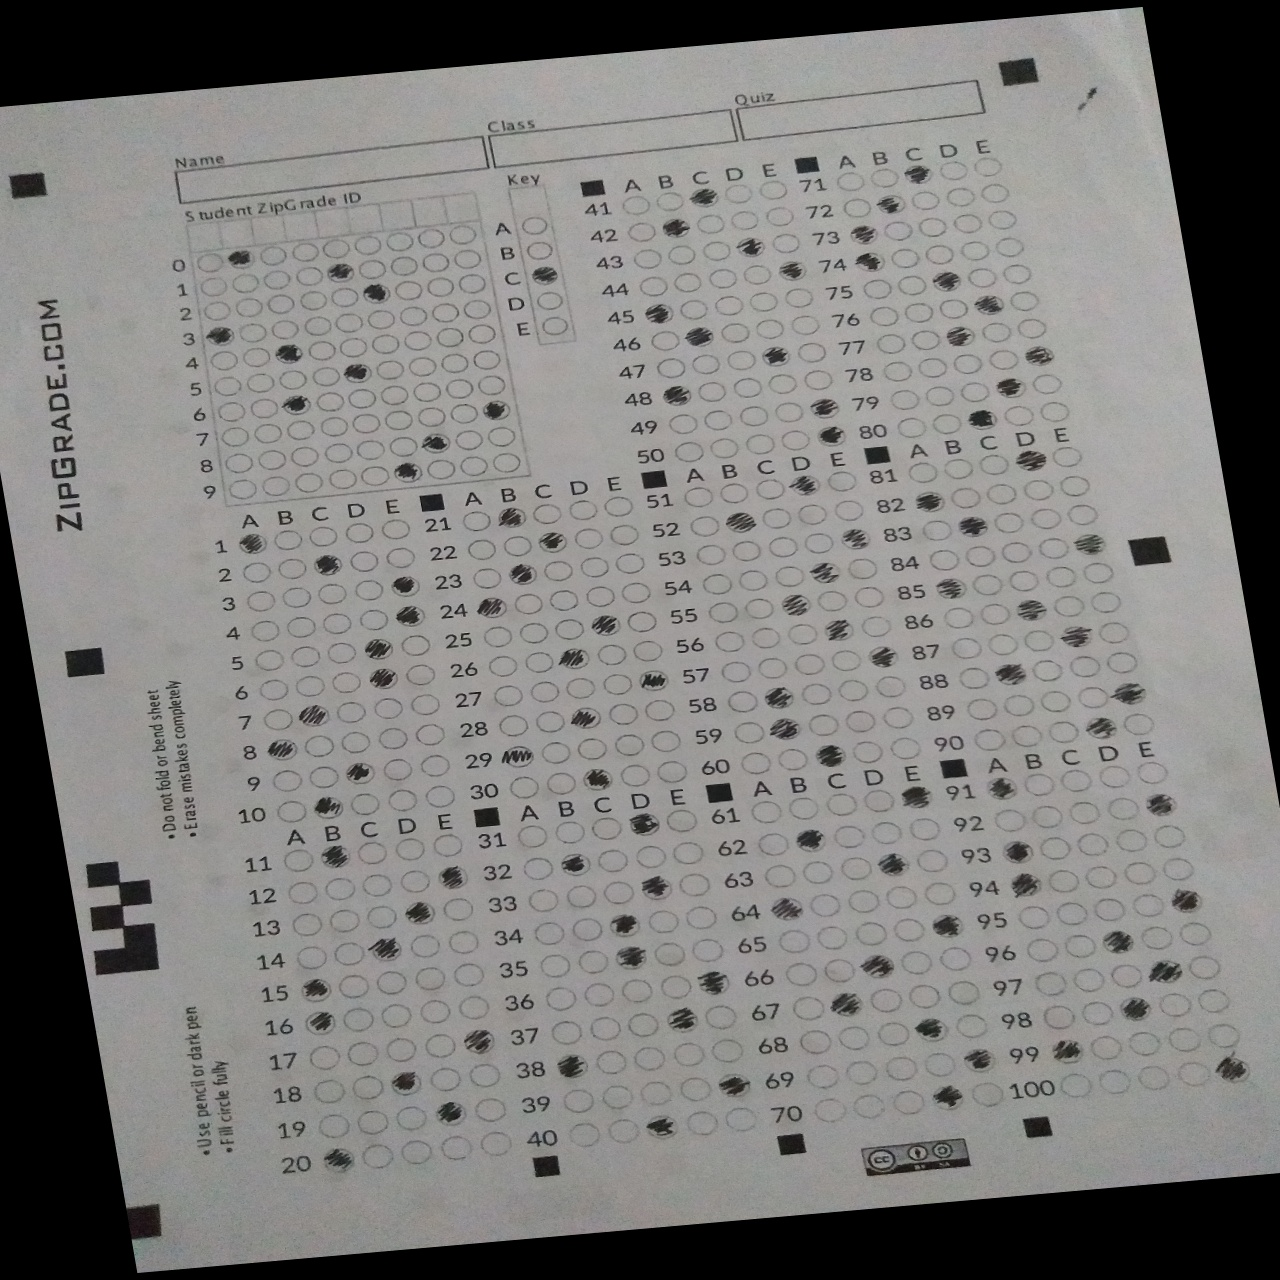not-c: (964, 726, 1008, 755), (327, 940, 372, 969), (309, 1111, 354, 1141), (284, 910, 328, 939), (279, 878, 324, 907), (700, 1002, 744, 1032), (679, 1109, 723, 1138), (673, 1075, 717, 1104), (667, 1040, 712, 1069), (632, 843, 676, 872), (672, 839, 716, 869), (768, 927, 812, 956), (747, 832, 791, 862), (747, 798, 791, 828), (896, 947, 940, 976), (903, 981, 947, 1010), (880, 1054, 925, 1083), (821, 790, 865, 819), (804, 891, 849, 920), (850, 921, 896, 949), (1128, 890, 1170, 920), (1175, 919, 1217, 949), (912, 517, 955, 546), (919, 546, 962, 576), (934, 602, 978, 632), (959, 695, 1002, 724), (302, 1041, 346, 1070), (290, 942, 333, 972), (511, 821, 554, 850), (706, 1036, 749, 1065), (722, 1104, 765, 1133), (654, 975, 697, 1005), (648, 941, 692, 971), (688, 937, 731, 966), (685, 903, 728, 932), (798, 1061, 842, 1090), (756, 863, 799, 892), (920, 1049, 964, 1078), (865, 986, 908, 1015), (784, 796, 828, 825), (798, 857, 842, 886), (1061, 652, 1105, 680), (278, 846, 322, 874), (645, 908, 689, 937), (676, 873, 721, 901), (836, 1057, 880, 1085), (788, 1027, 832, 1055), (870, 1019, 914, 1047), (835, 853, 879, 881), (806, 926, 851, 954), (817, 956, 862, 985), (308, 1076, 350, 1105), (526, 919, 568, 948), (778, 959, 821, 988), (940, 633, 983, 661), (1042, 717, 1085, 745), (1069, 683, 1112, 712), (316, 874, 360, 903), (321, 907, 365, 935), (346, 1073, 389, 1101), (423, 1065, 467, 1094), (388, 1105, 431, 1133), (379, 1036, 422, 1064), (539, 985, 583, 1013), (564, 1123, 607, 1151), (455, 994, 498, 1022), (429, 832, 472, 860), (599, 880, 642, 908), (595, 1082, 639, 1110), (558, 885, 601, 913), (523, 888, 566, 917), (518, 853, 561, 881), (661, 806, 704, 835), (785, 995, 829, 1023), (845, 888, 888, 917), (828, 822, 871, 850), (830, 1024, 873, 1053), (1135, 922, 1176, 952), (1105, 961, 1146, 990), (1094, 896, 1135, 925), (1081, 863, 1122, 892), (1193, 986, 1234, 1015), (1201, 1019, 1242, 1048), (1102, 797, 1143, 826), (1132, 760, 1173, 789), (1150, 823, 1191, 852), (1187, 952, 1228, 981), (948, 665, 990, 693), (594, 847, 636, 876), (352, 1109, 394, 1137), (334, 973, 376, 1001), (411, 964, 454, 992), (415, 998, 457, 1026), (436, 1133, 478, 1162), (376, 1002, 418, 1030), (373, 968, 415, 996), (359, 905, 401, 933), (355, 870, 397, 898), (476, 1130, 518, 1158), (468, 1095, 510, 1123), (448, 960, 490, 988), (576, 980, 618, 1008), (617, 976, 659, 1005), (601, 1117, 644, 1145), (585, 1015, 627, 1043), (570, 948, 612, 976), (550, 818, 592, 846), (898, 459, 941, 486), (343, 1039, 387, 1065), (402, 932, 445, 959), (394, 1139, 437, 1166), (350, 838, 394, 865), (544, 1019, 587, 1046), (619, 1012, 662, 1039), (591, 1049, 634, 1076), (1155, 988, 1194, 1017), (982, 629, 1023, 658), (588, 813, 629, 842), (1073, 832, 1114, 860), (1160, 1026, 1201, 1054), (1111, 826, 1152, 855), (1092, 764, 1133, 792), (1157, 856, 1198, 884), (1005, 722, 1047, 749), (944, 485, 986, 512), (708, 628, 750, 655), (383, 787, 425, 813), (342, 520, 384, 547), (299, 731, 341, 758), (241, 588, 284, 615), (533, 738, 576, 765), (516, 647, 558, 674), (502, 774, 544, 801), (608, 522, 651, 549), (577, 556, 619, 583), (356, 1144, 399, 1171), (336, 1005, 379, 1032), (388, 835, 430, 862), (395, 869, 437, 896), (416, 1033, 458, 1060), (532, 953, 574, 980), (557, 1088, 599, 1115), (463, 1062, 505, 1089), (436, 896, 478, 922), (565, 915, 607, 942), (808, 1096, 847, 1124), (1175, 1060, 1214, 1088), (1121, 859, 1160, 887), (990, 508, 1032, 535), (804, 712, 845, 738), (731, 568, 772, 595), (697, 568, 738, 595), (688, 542, 729, 568), (849, 738, 890, 765), (349, 576, 390, 602), (304, 522, 345, 549), (268, 798, 309, 825), (597, 493, 638, 520), (656, 760, 697, 787), (615, 551, 656, 578), (546, 587, 587, 614), (629, 1046, 670, 1073), (636, 1080, 678, 1107), (1124, 1032, 1165, 1058), (1006, 567, 1048, 593), (958, 543, 1000, 568), (981, 482, 1023, 508), (812, 588, 855, 614), (727, 538, 769, 564), (714, 659, 756, 685), (368, 695, 410, 721), (338, 730, 380, 756), (324, 638, 366, 663), (281, 615, 324, 641), (266, 769, 308, 795), (560, 673, 602, 699), (511, 619, 553, 645), (497, 533, 539, 559), (645, 727, 687, 753), (608, 730, 651, 756), (870, 819, 908, 847), (903, 817, 941, 845), (850, 1092, 888, 1121), (945, 979, 983, 1007), (1020, 771, 1058, 799), (1041, 1003, 1080, 1032), (845, 556, 885, 583), (716, 481, 756, 508), (835, 678, 874, 704), (409, 692, 449, 719), (332, 697, 372, 724), (253, 678, 293, 704), (244, 647, 284, 674), (375, 726, 415, 753), (527, 678, 567, 704), (454, 508, 493, 535), (549, 617, 588, 644), (849, 584, 890, 610), (829, 501, 870, 526), (821, 470, 862, 496), (1042, 563, 1083, 588), (1049, 591, 1090, 617), (1027, 656, 1068, 682), (998, 693, 1039, 719), (974, 601, 1015, 627), (996, 538, 1037, 564), (798, 682, 839, 708), (791, 651, 832, 676), (758, 506, 799, 532), (738, 597, 779, 622), (745, 625, 787, 651), (772, 745, 813, 771), (731, 750, 772, 776), (719, 692, 760, 717), (699, 598, 740, 624), (683, 512, 724, 538), (798, 531, 839, 557), (858, 614, 899, 640), (828, 647, 869, 673), (871, 673, 912, 699), (840, 708, 881, 734), (416, 754, 457, 779), (358, 606, 399, 632), (403, 660, 444, 686), (383, 546, 424, 572), (343, 547, 384, 573), (382, 516, 423, 542), (318, 611, 359, 636), (315, 580, 356, 606), (271, 557, 312, 583), (290, 674, 331, 700), (304, 765, 345, 791), (253, 707, 294, 733), (529, 707, 570, 733), (509, 591, 550, 617), (565, 498, 606, 524), (530, 502, 571, 527), (492, 710, 533, 736), (474, 625, 515, 651), (461, 565, 502, 591), (624, 610, 665, 635), (592, 644, 633, 669), (599, 672, 640, 697), (645, 695, 686, 721), (629, 638, 670, 663), (570, 524, 611, 550), (604, 700, 645, 726), (538, 559, 579, 585), (888, 1087, 926, 1115), (1096, 1068, 1133, 1096), (1065, 799, 1103, 828), (883, 884, 921, 911), (1133, 1064, 1172, 1091), (1055, 1073, 1094, 1099), (1032, 969, 1070, 996), (992, 806, 1030, 833), (1057, 768, 1096, 795), (1069, 967, 1108, 994), (1061, 933, 1099, 960), (1021, 628, 1061, 654), (969, 570, 1009, 595), (781, 622, 821, 648), (770, 563, 810, 588), (765, 533, 805, 559), (753, 476, 792, 502), (726, 719, 765, 744), (676, 483, 716, 509), (795, 502, 835, 527), (880, 703, 920, 729), (888, 735, 928, 761), (380, 756, 420, 782), (422, 783, 462, 809), (413, 721, 452, 747), (394, 632, 434, 658), (346, 790, 386, 816), (328, 670, 368, 696), (280, 584, 320, 610), (244, 619, 284, 645), (234, 560, 274, 586), (486, 683, 526, 709), (479, 654, 519, 680), (463, 537, 503, 563), (619, 579, 659, 605), (617, 763, 656, 789), (890, 917, 930, 942), (445, 928, 482, 956), (935, 944, 973, 971), (920, 880, 958, 907), (913, 847, 951, 874), (954, 1013, 992, 1040), (968, 1080, 1006, 1107), (1024, 937, 1062, 964), (1014, 905, 1051, 932), (1078, 999, 1116, 1026), (1089, 1034, 1126, 1061), (1055, 900, 1092, 927), (1044, 869, 1082, 896), (1035, 835, 1073, 862), (1036, 689, 1077, 714), (751, 655, 792, 680), (286, 646, 327, 670), (573, 736, 614, 761), (266, 530, 306, 554), (542, 771, 581, 796), (583, 586, 622, 611), (862, 789, 899, 815), (1028, 804, 1065, 830), (353, 257, 389, 282), (964, 265, 1001, 290), (318, 236, 354, 260), (454, 271, 490, 295), (294, 288, 331, 313), (196, 299, 232, 324), (258, 475, 294, 499), (396, 305, 433, 329), (306, 365, 342, 389), (422, 457, 458, 482), (381, 408, 417, 433), (316, 413, 353, 437), (939, 456, 975, 481), (745, 291, 782, 315), (735, 404, 771, 429), (694, 379, 730, 403), (701, 408, 737, 433), (670, 441, 707, 465), (535, 315, 571, 340), (927, 411, 964, 436), (893, 415, 930, 440), (879, 360, 915, 384), (726, 209, 762, 233), (915, 216, 952, 240), (1007, 290, 1043, 314), (993, 234, 1029, 259), (978, 181, 1014, 205), (975, 452, 1012, 477), (1063, 503, 1099, 527), (414, 406, 451, 429), (1027, 508, 1064, 531), (382, 229, 417, 253), (192, 250, 227, 274), (445, 223, 481, 247), (227, 272, 263, 297), (451, 428, 486, 452), (225, 476, 260, 501), (213, 401, 248, 425), (229, 272, 264, 297), (268, 318, 304, 342), (254, 448, 290, 472), (343, 386, 379, 410), (462, 297, 497, 321), (451, 248, 486, 273), (771, 400, 806, 424), (750, 316, 785, 341), (700, 238, 735, 263), (661, 244, 696, 268), (689, 353, 724, 377), (708, 435, 743, 459), (888, 247, 924, 272), (873, 332, 908, 356), (867, 302, 903, 327), (860, 278, 896, 302), (838, 196, 873, 220), (835, 169, 870, 193), (922, 243, 958, 267), (958, 238, 993, 263), (955, 379, 990, 403), (986, 347, 1021, 372), (1037, 399, 1073, 423), (1032, 372, 1067, 396), (1085, 590, 1121, 614), (1037, 537, 1073, 561), (740, 263, 775, 287), (413, 226, 449, 250), (287, 240, 324, 264), (193, 275, 230, 299), (219, 425, 256, 449), (258, 268, 294, 292), (209, 374, 245, 397), (299, 314, 335, 338), (287, 445, 324, 469), (292, 470, 328, 493), (241, 372, 278, 395), (369, 334, 406, 358), (388, 256, 424, 279), (305, 339, 341, 362), (332, 312, 368, 335), (474, 373, 510, 396), (409, 382, 445, 406), (384, 436, 421, 459), (356, 463, 393, 486), (324, 467, 360, 490), (319, 441, 355, 464), (416, 252, 452, 275), (400, 331, 436, 354), (769, 232, 805, 256), (781, 286, 817, 309), (789, 314, 825, 338), (799, 368, 836, 392), (778, 429, 815, 452), (740, 430, 776, 454), (723, 349, 760, 373), (712, 294, 748, 318), (693, 213, 729, 237), (653, 190, 689, 213), (663, 411, 700, 435), (653, 356, 689, 380), (646, 328, 682, 352), (619, 193, 655, 217), (516, 215, 552, 238), (520, 239, 557, 263), (891, 275, 927, 299), (723, 182, 760, 205), (951, 212, 987, 236), (934, 297, 971, 320), (981, 320, 1017, 343), (999, 403, 1035, 427), (983, 206, 1020, 230), (937, 158, 973, 182), (1084, 559, 1121, 583), (1055, 475, 1091, 498), (256, 244, 290, 268), (670, 271, 704, 295), (922, 384, 956, 409), (328, 285, 362, 309), (905, 329, 942, 352), (222, 452, 257, 476), (239, 345, 274, 368), (290, 264, 325, 287), (263, 293, 298, 316), (206, 348, 241, 372), (274, 368, 309, 392), (284, 418, 319, 442), (246, 397, 281, 421), (336, 336, 372, 360), (443, 377, 478, 401), (467, 348, 502, 372), (440, 350, 475, 374), (404, 355, 440, 379), (373, 359, 408, 382), (434, 326, 469, 349), (464, 322, 499, 346), (428, 301, 463, 325), (486, 424, 522, 448), (455, 454, 490, 477), (794, 341, 829, 365), (764, 372, 799, 395), (730, 376, 765, 400), (717, 321, 753, 345), (704, 268, 740, 292), (678, 299, 713, 322), (635, 274, 670, 298), (628, 247, 663, 271), (900, 301, 935, 325), (881, 219, 917, 243), (886, 388, 921, 411), (945, 186, 980, 210), (949, 350, 985, 374), (1015, 316, 1050, 340), (1000, 261, 1035, 285), (969, 155, 1005, 178), (1050, 445, 1085, 469), (866, 166, 901, 190), (910, 188, 945, 211), (1123, 713, 1158, 736), (1104, 652, 1139, 675), (244, 372, 280, 394), (236, 321, 272, 343), (229, 297, 265, 319), (250, 423, 286, 445), (447, 403, 483, 425), (312, 390, 348, 413), (757, 179, 794, 202), (1020, 478, 1056, 501), (377, 383, 411, 407), (350, 409, 384, 433), (915, 355, 949, 379), (350, 233, 386, 256), (363, 309, 399, 332), (352, 437, 387, 459), (490, 451, 525, 474), (624, 220, 659, 243), (530, 290, 565, 312), (763, 206, 798, 229), (392, 280, 425, 302), (1099, 622, 1133, 645), (424, 274, 454, 297)
taken-c: (1162, 885, 1207, 914), (1211, 1055, 1257, 1084), (456, 1026, 501, 1055), (297, 1008, 341, 1037), (312, 840, 356, 870), (998, 837, 1042, 866), (1144, 956, 1189, 986), (869, 850, 913, 879), (924, 912, 968, 941), (908, 1015, 953, 1044), (956, 1046, 1001, 1075), (292, 700, 336, 729), (1081, 713, 1125, 742), (788, 826, 833, 855), (823, 989, 869, 1017), (636, 874, 680, 904), (601, 910, 645, 939), (316, 1144, 360, 1173), (295, 974, 339, 1003), (397, 899, 441, 928), (981, 774, 1024, 803), (553, 847, 597, 877), (1003, 871, 1047, 900), (1046, 1035, 1089, 1064), (926, 1083, 969, 1112), (990, 660, 1034, 689), (576, 764, 620, 792), (339, 758, 383, 787), (762, 713, 806, 741), (619, 809, 663, 837), (659, 1005, 703, 1033), (549, 1051, 593, 1080), (606, 942, 651, 971), (427, 1099, 471, 1128), (365, 937, 409, 965), (856, 952, 900, 980), (639, 1112, 683, 1141), (584, 612, 628, 640), (1054, 622, 1098, 651), (261, 735, 304, 764), (431, 863, 474, 892), (1098, 927, 1141, 956), (710, 1070, 753, 1099), (561, 701, 605, 729), (811, 742, 855, 770), (764, 894, 808, 922), (692, 969, 735, 998), (383, 1069, 427, 1097), (893, 784, 937, 812), (1114, 994, 1157, 1022), (756, 685, 799, 713), (1139, 789, 1183, 817), (816, 617, 860, 644), (495, 741, 537, 769), (382, 572, 424, 600), (390, 601, 433, 629), (553, 644, 595, 672), (1068, 530, 1110, 558), (1010, 594, 1053, 622), (860, 642, 903, 670), (306, 794, 349, 821), (930, 576, 972, 602), (1107, 679, 1149, 706), (959, 404, 1001, 431), (1010, 447, 1051, 474), (908, 488, 949, 515), (720, 509, 761, 536), (847, 248, 888, 275), (655, 215, 696, 241), (952, 515, 994, 540), (491, 505, 533, 531), (633, 667, 673, 694), (532, 527, 572, 554), (199, 324, 239, 350), (835, 526, 876, 552), (804, 560, 845, 586), (774, 591, 815, 617), (229, 531, 270, 557), (925, 267, 966, 293), (940, 324, 981, 349), (1017, 342, 1058, 368), (729, 233, 770, 259), (896, 162, 937, 188), (472, 594, 511, 621), (785, 472, 825, 498), (307, 552, 347, 578), (843, 220, 883, 246), (969, 292, 1009, 318), (990, 375, 1030, 401), (678, 324, 717, 349), (770, 257, 810, 282), (869, 192, 908, 218), (658, 383, 695, 410), (501, 561, 542, 586), (363, 665, 402, 690), (275, 392, 314, 417), (638, 301, 678, 326), (805, 397, 842, 424), (359, 636, 397, 661), (811, 422, 847, 448), (320, 260, 360, 284), (339, 361, 376, 386), (685, 185, 722, 210), (526, 265, 564, 290), (417, 431, 452, 457), (389, 459, 425, 484), (475, 399, 512, 422), (356, 282, 394, 306), (760, 343, 795, 368), (271, 342, 306, 366), (223, 247, 256, 268)
